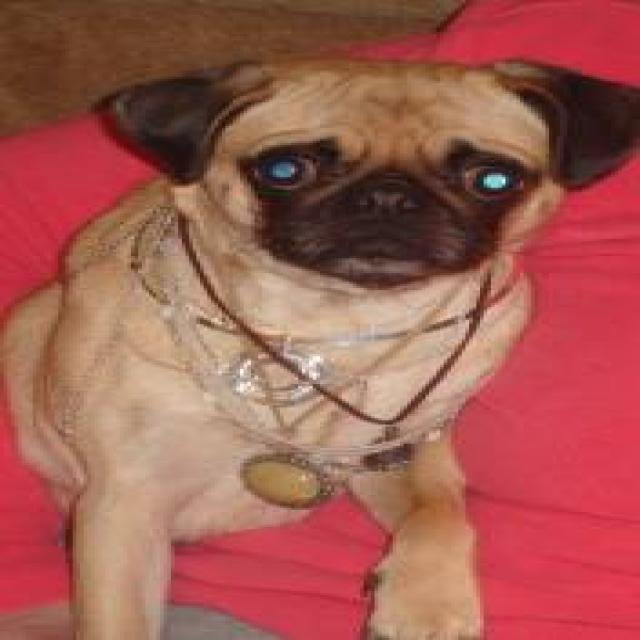dog-pug: (4, 41, 633, 636)
